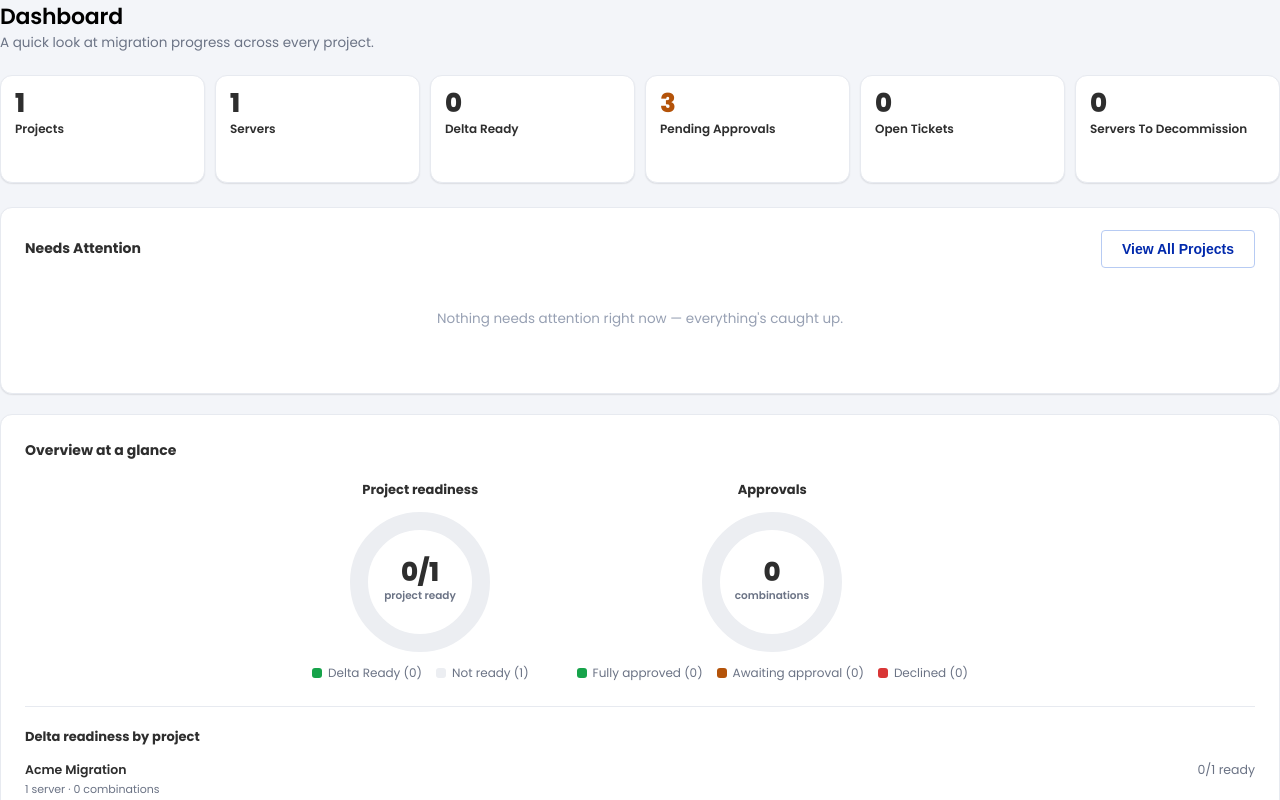
Test: Dashboard server popups › the Servers list names every combination on each server
The width and height of the screenshot is (1280, 800).
expect the heading "Dashboard" is shown: met, box [0,1,123,32]
Click the button "1 Servers": click(318, 129) [215,75,420,183]
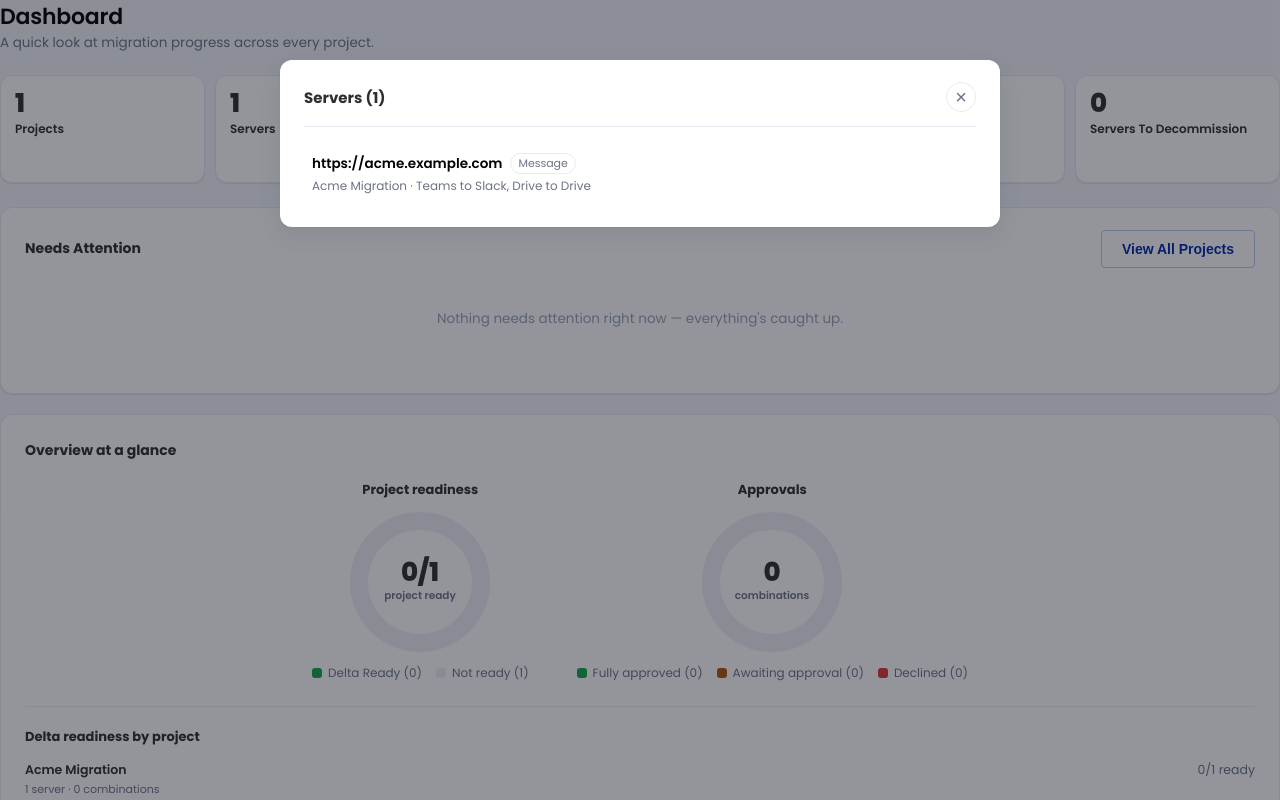
expect the text "Teams to Slack, Drive to Drive" is shown: met, box [407,177,591,194]
